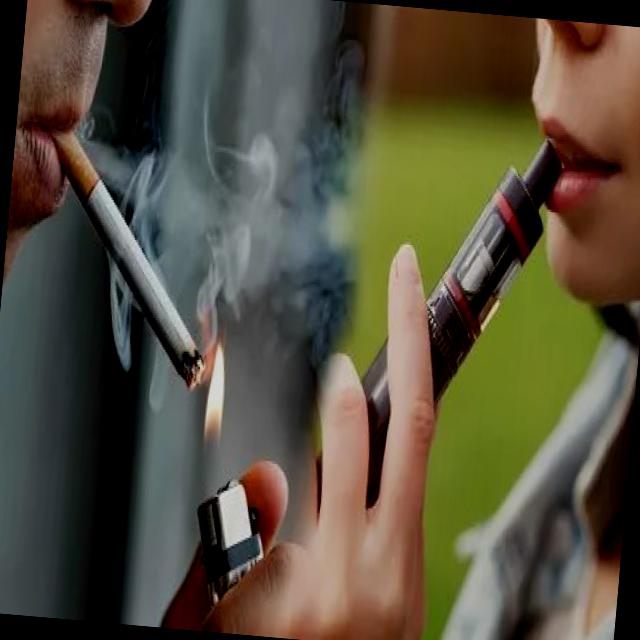cigarette: (286, 115, 564, 558), (25, 120, 233, 401)
